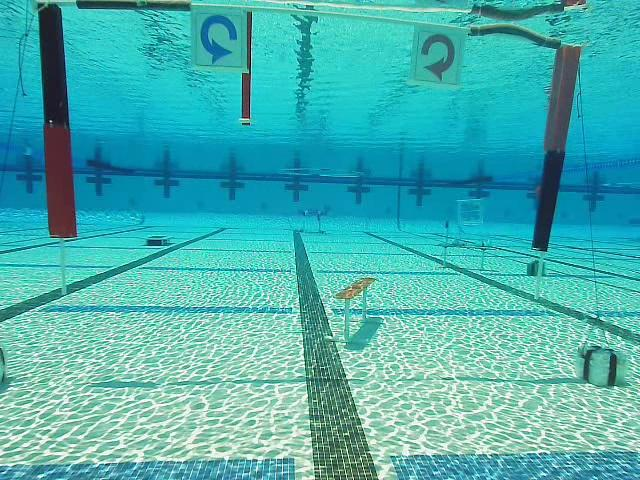dropper: (138, 229, 173, 248)
gate_blue: (193, 10, 246, 70)
gate_leg_r: (531, 41, 583, 252)
gate_red: (413, 28, 464, 88)
table: (297, 209, 327, 234)
torpedo: (457, 199, 484, 225)
